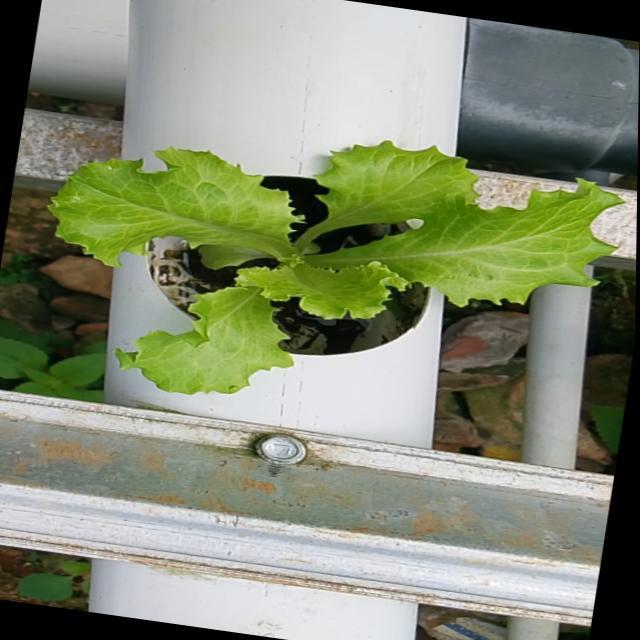Baby: (48, 140, 626, 394)
